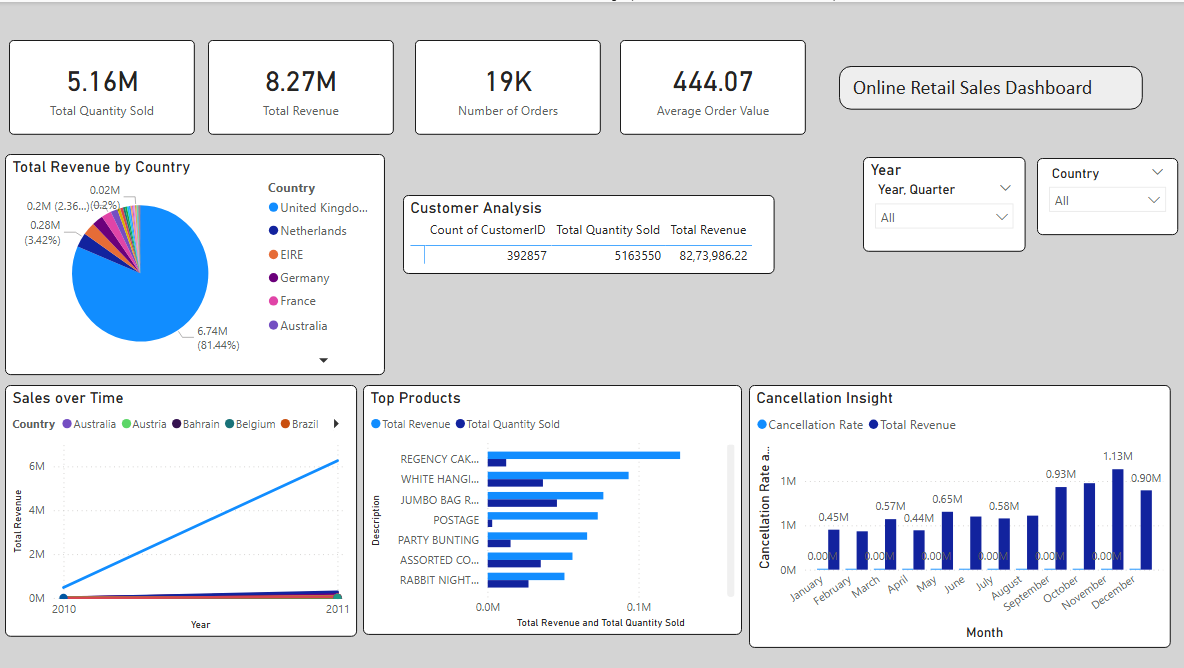

This screenshot's page, from the dashboard's own definition file:
{"tool":"powerbi","page":{"name":"Sales Dashboard","canvas":[1280,720],"ordinal":0},"visuals":[{"type":"slicer","fields":{"Values":["df_cleaned.Country"]},"box":[1118.5,167.9,151.8,82.9],"z":0},{"type":"slicer","title":"Year","fields":{"Values":["df_cleaned.InvoiceDate.Variation.Date Hierarchy.Year","df_cleaned.InvoiceDate.Variation.Date Hierarchy.Quarter"]},"box":[931.2,166.9,160.4,84],"z":1000},{"type":"card","fields":{"Values":["df_cleaned.Total Quantity Sold"]},"box":[11.8,47.4,200.2,102.3],"z":2000},{"type":"stackedAreaChart","title":"Sales over Time","fields":{"Category":["df_cleaned.InvoiceDate.Variation.Date Hierarchy.Year"],"Y":["df_cleaned.Total Revenue"],"Series":["df_cleaned.Country"]},"box":[7.5,412.3,378.9,271.3],"z":3000},{"type":"clusteredBarChart","title":"Top Products","fields":{"Category":["df_cleaned.Description"],"Y":["df_cleaned.Total Revenue","df_cleaned.Total Quantity Sold"]},"box":[392.9,412.3,408,269.1],"z":4000},{"type":"pivotTable","title":"Customer Analysis","fields":{"Values":["df_cleaned.Total Quantity Sold","df_cleaned.Total Revenue","CountNonNull(df_cleaned.CustomerID)"]},"box":[436,207.8,404.8,103.3],"z":5000},{"type":"pieChart","fields":{"Category":["df_cleaned.Country"],"Y":["df_cleaned.Total Revenue"]},"box":[7.5,163.6,409.1,237.9],"z":6000},{"type":"areaChart","title":"Cancellation Insight","fields":{"Category":["df_cleaned.InvoiceDate.Variation.Date Hierarchy.Month"],"Y":["df_cleaned.Cancellation Rate","df_cleaned.Total Revenue"]},"box":[811.7,412.3,451.1,269.1],"z":7000},{"type":"card","fields":{"Values":["df_cleaned.Total Revenue"]},"box":[226.1,47.4,200.2,102.3],"z":8000},{"type":"card","fields":{"Values":["df_cleaned.Number of Orders"]},"box":[440.3,47.4,200.2,102.3],"z":9000},{"type":"card","fields":{"Values":["df_cleaned.Average Order Value"]},"box":[654.5,47.4,200.2,102.3],"z":10000},{"type":"textbox","box":[501.7,0,327.3,47.4],"z":11000},{"type":"card","fields":{"Values":["df_cleaned.Cancellation Rate"]},"box":[875.2,47.4,200.2,102.3],"z":12000}]}

Visuals, with their boxes in screenshot pixels (x1, y1, x2, y2), scaled from the page's 1280x720 canvas onto the 1184x668 screenshot:
slicer - df_cleaned.Country: (1035,156,1175,233)
"Year" slicer: (861,155,1010,233)
card - df_cleaned.Total Quantity Sold: (11,44,196,139)
"Sales over Time" stackedAreaChart: (7,383,357,634)
"Top Products" clusteredBarChart: (363,383,741,632)
"Customer Analysis" pivotTable: (403,193,778,289)
pieChart - df_cleaned.Country x df_cleaned.Total Revenue: (7,152,385,373)
"Cancellation Insight" areaChart: (751,383,1168,632)
card - df_cleaned.Total Revenue: (209,44,394,139)
card - df_cleaned.Number of Orders: (407,44,592,139)
card - df_cleaned.Average Order Value: (605,44,791,139)
textbox: (464,0,767,44)
card - df_cleaned.Cancellation Rate: (810,44,995,139)
